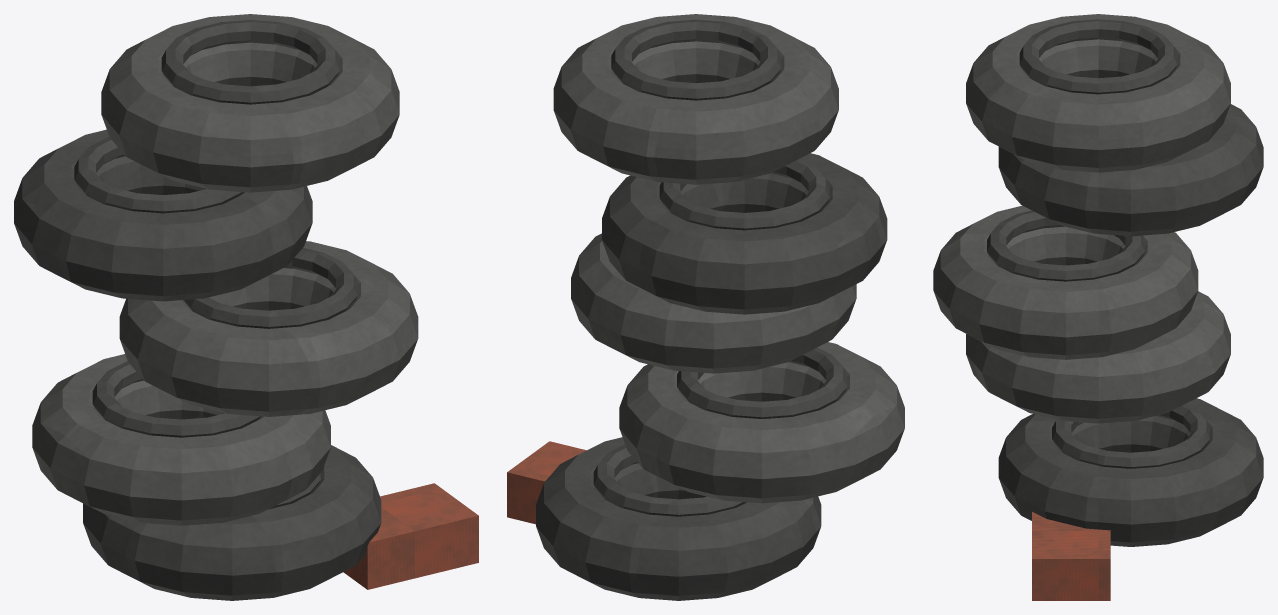
Rendered from discarded_tire_pile.glb.
3 views of the same model, side by side, from view 1: azimuth 30°, elevation 25°; view 2: azimuth 150°, elevation 25°; view 3: azimuth 270°, elevation 25° (orthographic). The views are drawn at different scales.
Parts seen in each view (by area): view 1: DecorativeStaticModel; view 2: DecorativeStaticModel; view 3: DecorativeStaticModel.
Part boxes in pixels (x1=…): DecorativeStaticModel: x1=14, y1=14, x2=478, y2=600; DecorativeStaticModel: x1=507, y1=14, x2=904, y2=600; DecorativeStaticModel: x1=933, y1=14, x2=1263, y2=600.
Bounding box in the file's own units: 1.47 × 1.9 × 1.21.
4 materials, 4 textured.
